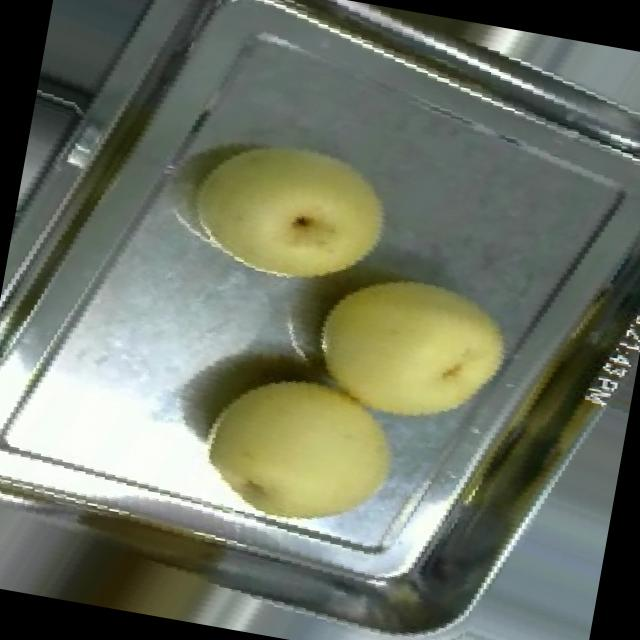Fruit: (156, 92, 426, 324), (280, 232, 542, 458), (175, 334, 427, 552)
